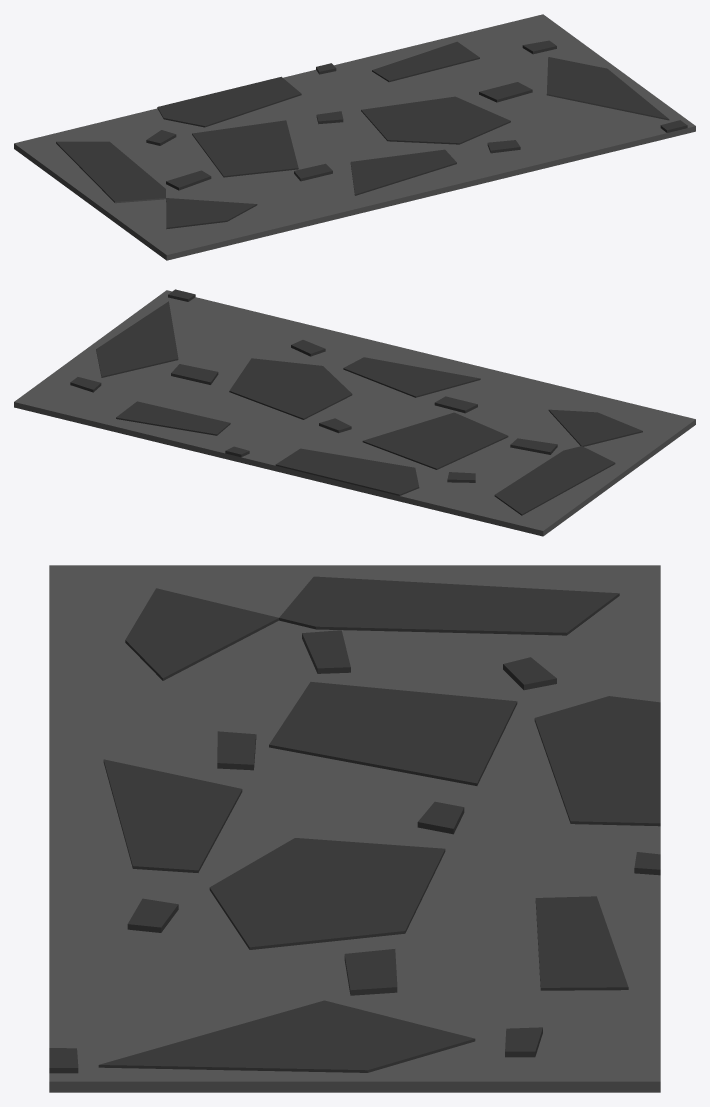
The model's file is RuinsTrail.glb.
3 renders of one model, top to bottom at view 1: azimuth 30°, elevation 25°; view 2: azimuth 150°, elevation 25°; view 3: azimuth 270°, elevation 25°, orthographic. The views are drawn at different scales.
Visible parts, largest first — view 1: Trail; view 2: Trail; view 3: Trail.
Part boxes in pixels (<box>): Trail: <box>14,14,695,260</box>; Trail: <box>14,289,695,536</box>; Trail: <box>49,565,660,1092</box>.
Bounding box in the file's own units: 10 × 0.15 × 5.
Materials: 1 (1 with a texture image).
